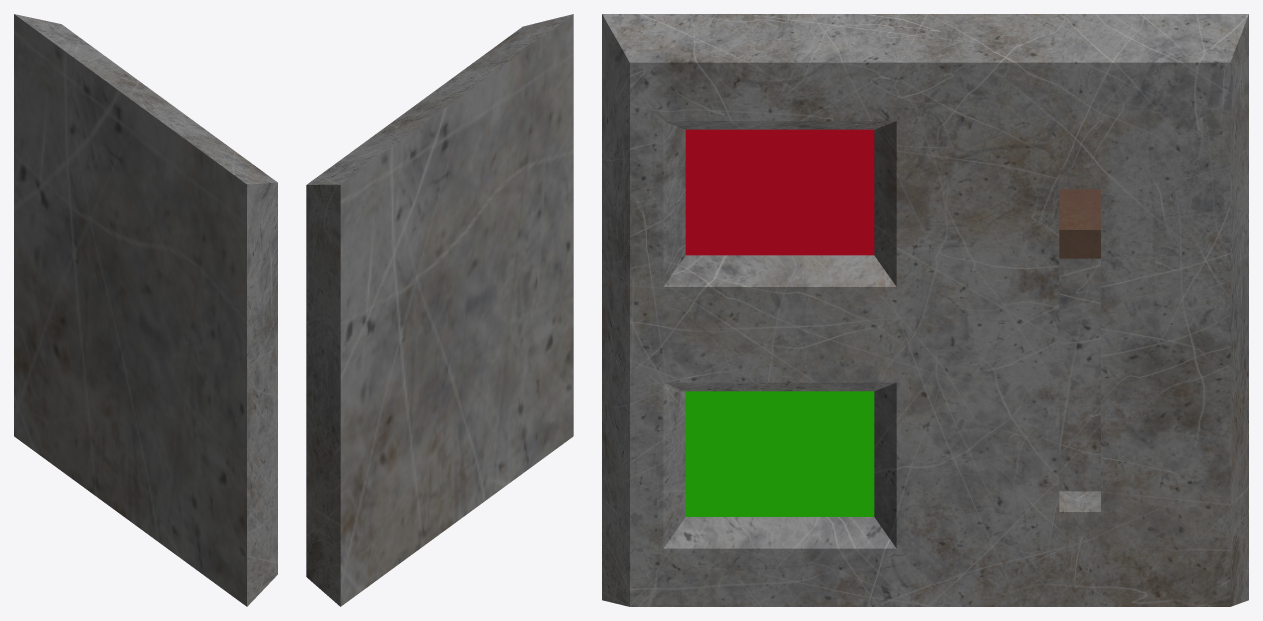
File: interruptor.fbx
3 views of the same model, side by side, from view 1: azimuth 30°, elevation 25°; view 2: azimuth 150°, elevation 25°; view 3: azimuth 270°, elevation 25° (orthographic). The views are drawn at different scales.
Visible parts, largest first — view 1: Base; view 2: Base; view 3: Base, Palanca.
Part boxes in pixels (left/top/right/bottom): Base: left=14, top=14, right=277, bottom=606; Base: left=306, top=14, right=573, bottom=606; Base: left=602, top=14, right=1248, bottom=606; Palanca: left=1059, top=189, right=1100, bottom=258.
Size of the model in its own units: 8.22 by 43.93 by 43.93.
